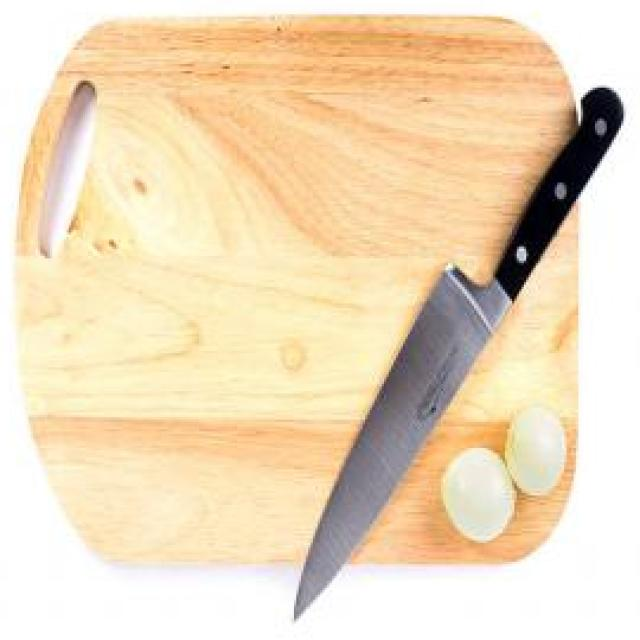knife: (280, 80, 627, 626)
